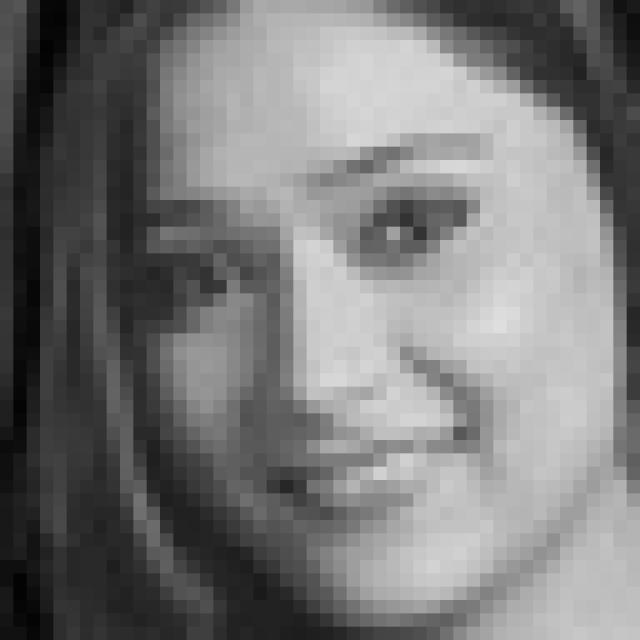happy: (140, 120, 493, 534)
